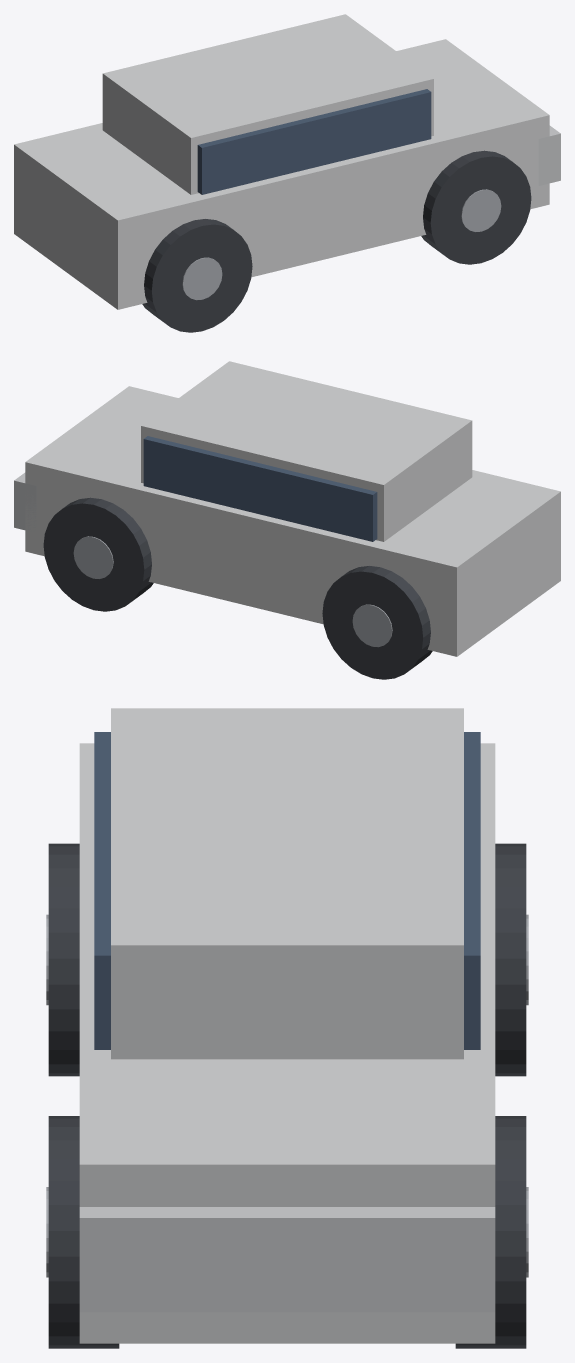
Rendered from suv.glb.
3 views of the same model, one above another, from view 1: azimuth 30°, elevation 25°; view 2: azimuth 150°, elevation 25°; view 3: azimuth 270°, elevation 25° (orthographic). The views are drawn at different scales.
Parts seen in each view (by area): view 1: geometry_0, geometry_1, geometry_2, geometry_4, geometry_8, geometry_5, geometry_9, geometry_3; view 2: geometry_0, geometry_1, geometry_2, geometry_6, geometry_10, geometry_7, geometry_11, geometry_3; view 3: geometry_1, geometry_0, geometry_3, geometry_2, geometry_4, geometry_6, geometry_8, geometry_10.
Boxes of the visible parts, x1,y1,x2,y2 form: geometry_0: (14,39,549,309); geometry_1: (102,14,433,194); geometry_2: (197,89,431,194); geometry_4: (421,150,531,264); geometry_8: (142,219,252,332); geometry_5: (461,189,501,231); geometry_9: (182,257,222,300); geometry_3: (538,125,560,185); geometry_0: (25,386,560,656); geometry_1: (141,361,472,541); geometry_2: (143,436,377,541); geometry_6: (43,497,153,611); geometry_10: (322,566,432,679); geometry_7: (73,536,113,578); geometry_11: (352,604,392,647); geometry_3: (14,472,36,530); geometry_1: (111,708,463,1059); geometry_0: (79,743,495,1343); geometry_3: (79,1207,495,1312); geometry_2: (94,732,480,1049); geometry_4: (48,1116,119,1348); geometry_6: (455,1116,526,1348); geometry_8: (48,843,79,1076); geometry_10: (495,843,526,1076).
Bounding box in the file's own units: 4.93 × 1.92 × 2.32.
